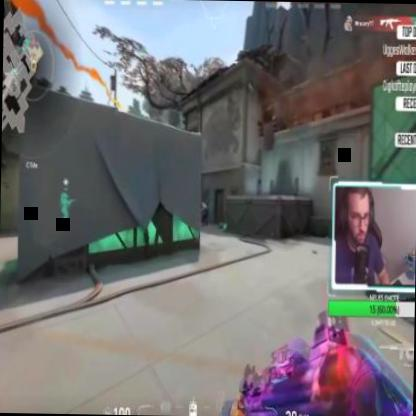enemy: (198, 198, 208, 227)
